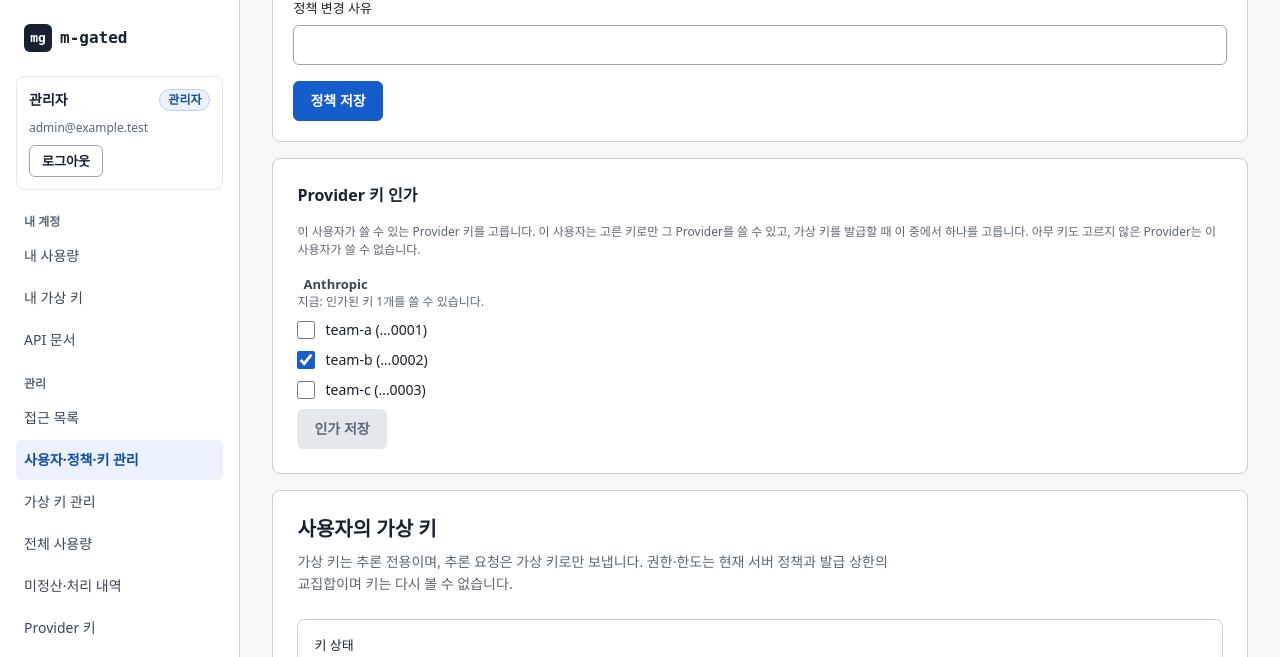
Test case: removing_every_provider_key_says_the_user_can_no_longer_use_the_provider
The image size is (1280, 657).
(page scrolled)
Click the checkbox labelled "team-b (…0002)". click: click(306, 360)
box: [298,351,316,369]
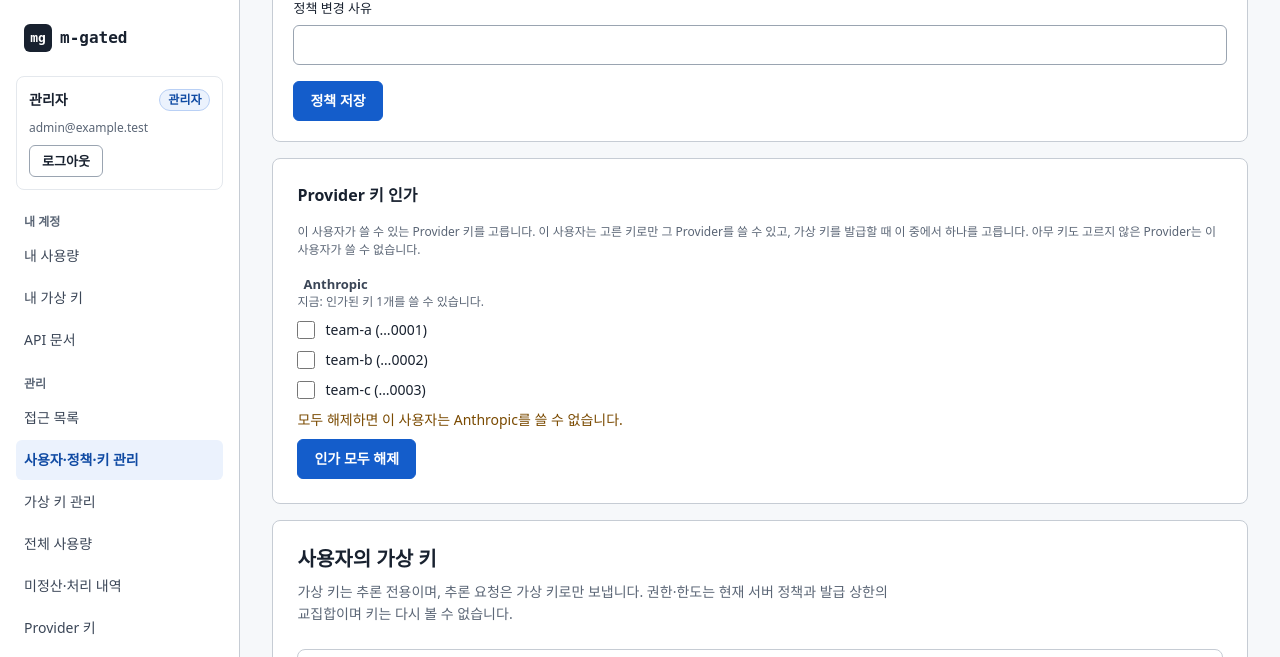
Now the text "모두 해제하면 이 사용자는 Anthropic를 쓸 수 없습니다." is shown, box [298,410,623,429]
Click the button "인가 모두 해제". click: click(357, 459)
box: [298,439,416,479]
(page scrolled)
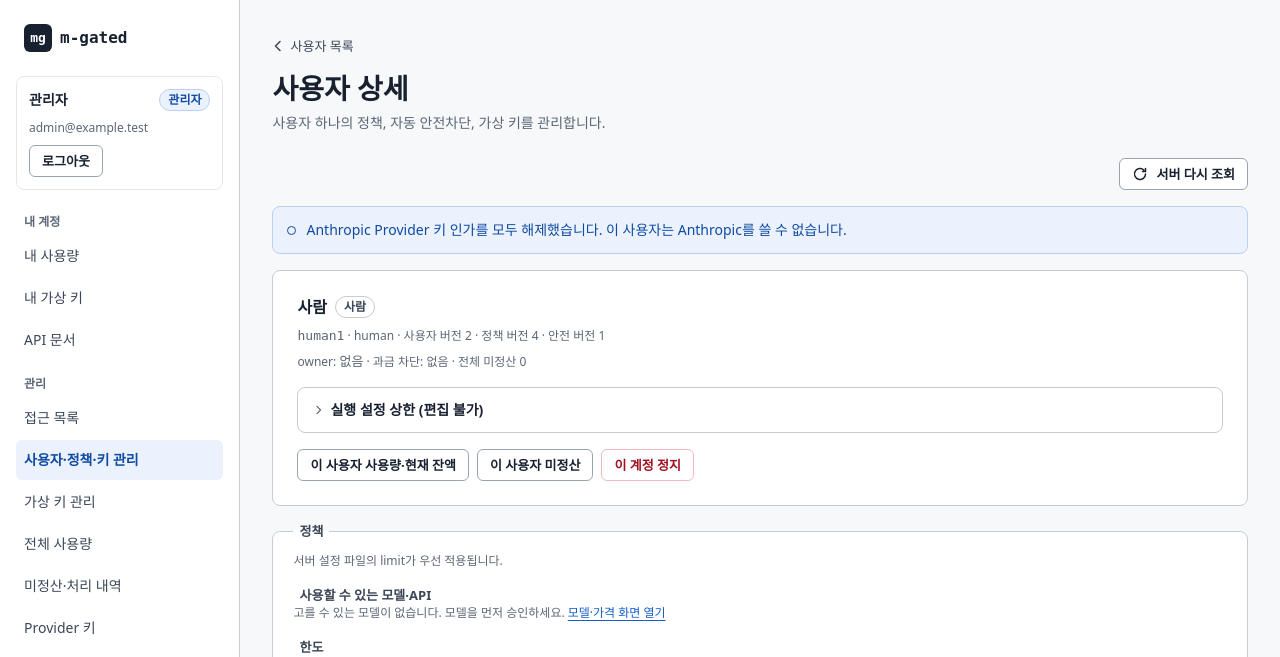
Now the text "Anthropic Provider 키 인가를 모두 해제했습니다. 이 사용자는 Anthropic를 쓸 수 없습니다." is shown, box [272,206,1248,254]
